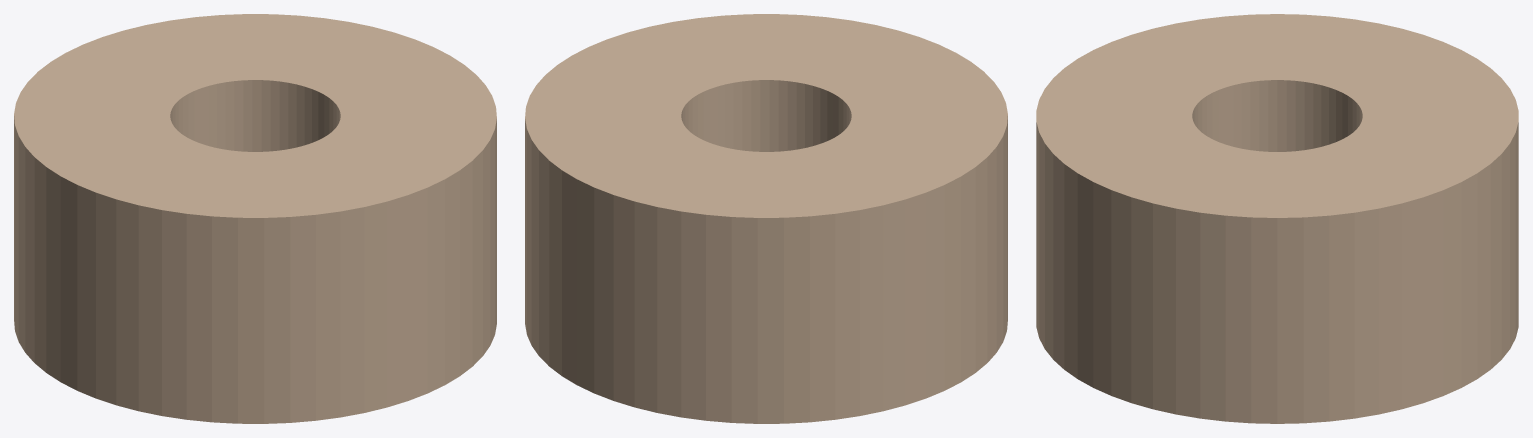
File: starter-commutator-insulator.glb
3 renders of one model, left to right at view 1: azimuth 30°, elevation 25°; view 2: azimuth 150°, elevation 25°; view 3: azimuth 270°, elevation 25°, orthographic.
Parts seen in each view (by area): view 1: world; view 2: world; view 3: world.
Boxes of the visible parts, bbox=[...] form: world: bbox=[14, 14, 496, 423]; world: bbox=[525, 14, 1007, 423]; world: bbox=[1036, 14, 1518, 423].
Bounding box in the file's own units: 0.034 × 0.016 × 0.034.
